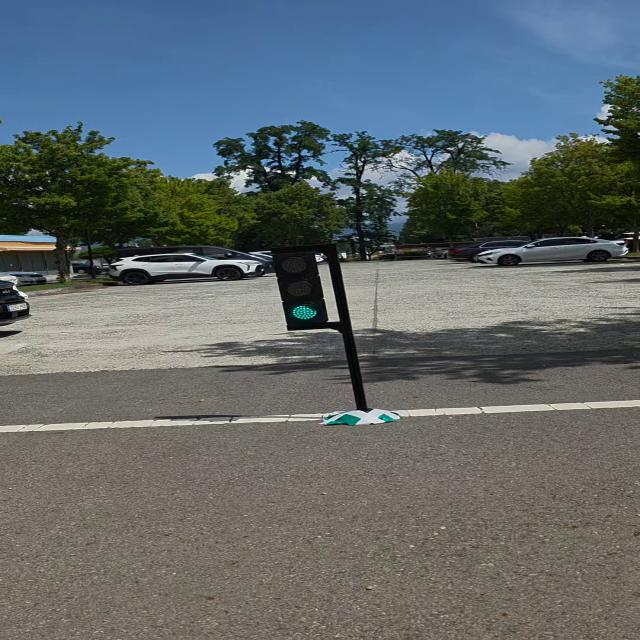green: (270, 248, 339, 329)
